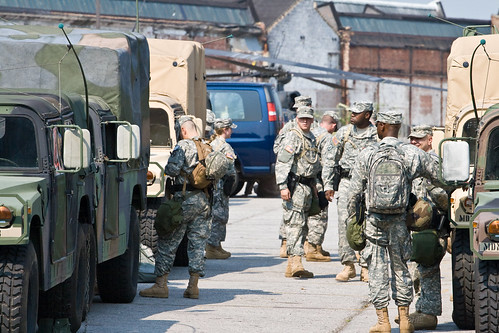soldier: (357, 113, 427, 333), (146, 114, 216, 296), (274, 111, 326, 282), (332, 106, 373, 276), (210, 117, 242, 259)
truck: (1, 33, 151, 333)
